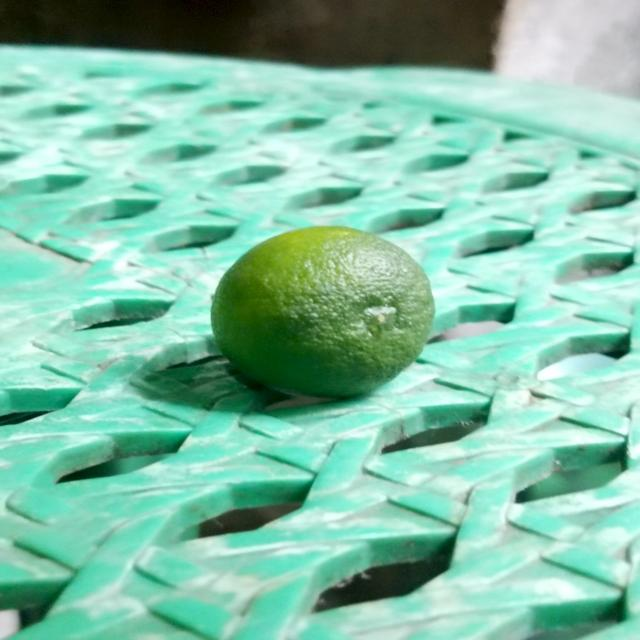heathy: (210, 229, 436, 399)
